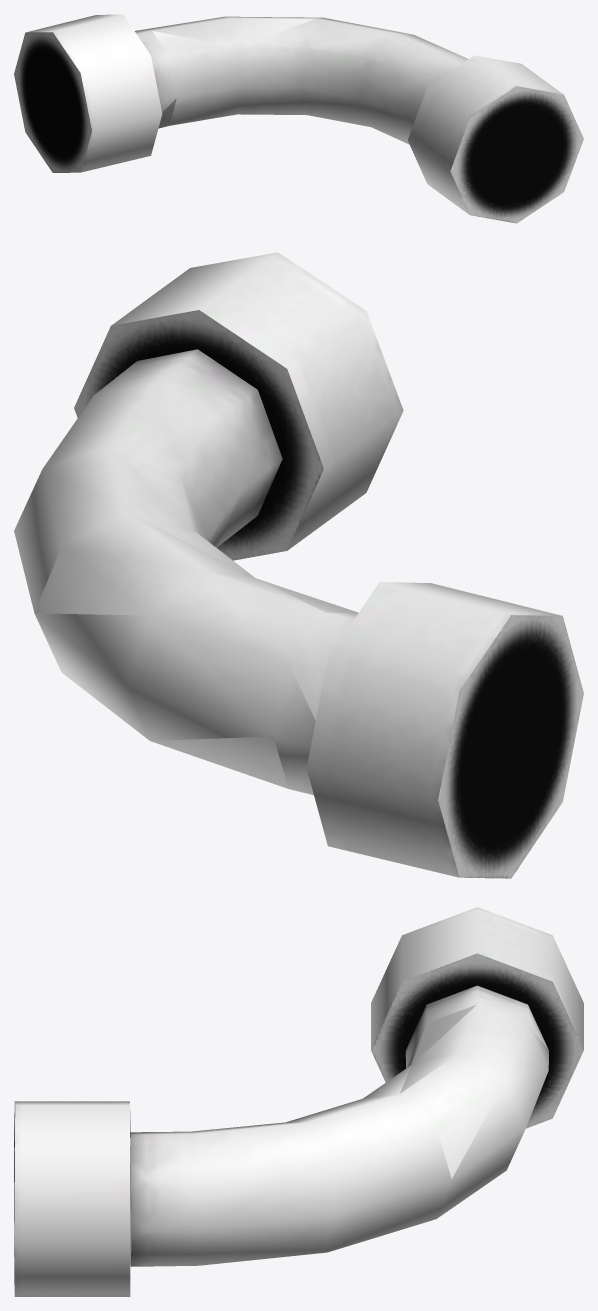
The model's file is Electric_Pipe_corner_16.FBX.
3 views of the same model, one above another, from view 1: azimuth 30°, elevation 25°; view 2: azimuth 150°, elevation 25°; view 3: azimuth 270°, elevation 25° (orthographic). The views are drawn at different scales.
Visible parts, largest first — view 1: Electric_Pipe_corner_16; view 2: Electric_Pipe_corner_16; view 3: Electric_Pipe_corner_16.
Part boxes in pixels (x1,y1,x2,y2): Electric_Pipe_corner_16: [14, 14, 583, 223]; Electric_Pipe_corner_16: [14, 252, 583, 878]; Electric_Pipe_corner_16: [14, 907, 583, 1296].
Size of the model in its own units: 19.65 by 7.38 by 19.68.
Materials: 1 (1 with a texture image).
